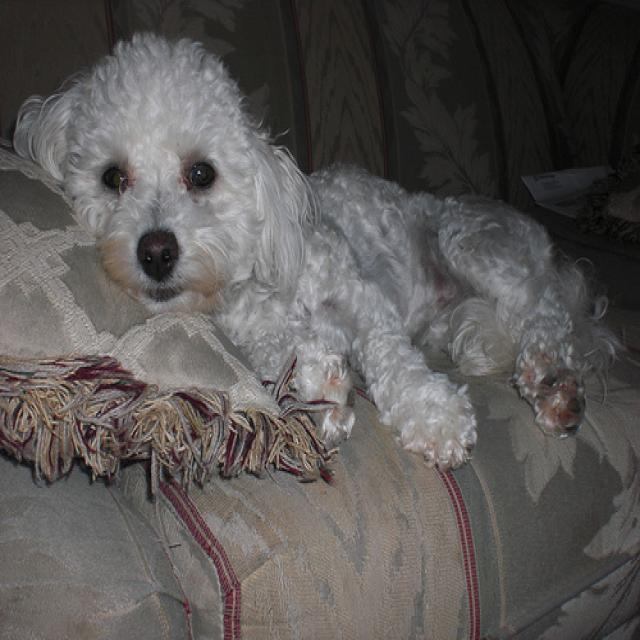dog-havanese: (4, 22, 620, 476)
